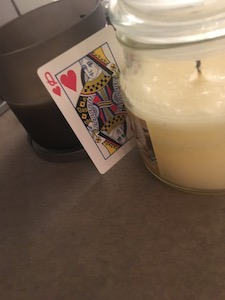QueenOfHearts: (35, 24, 139, 176)
